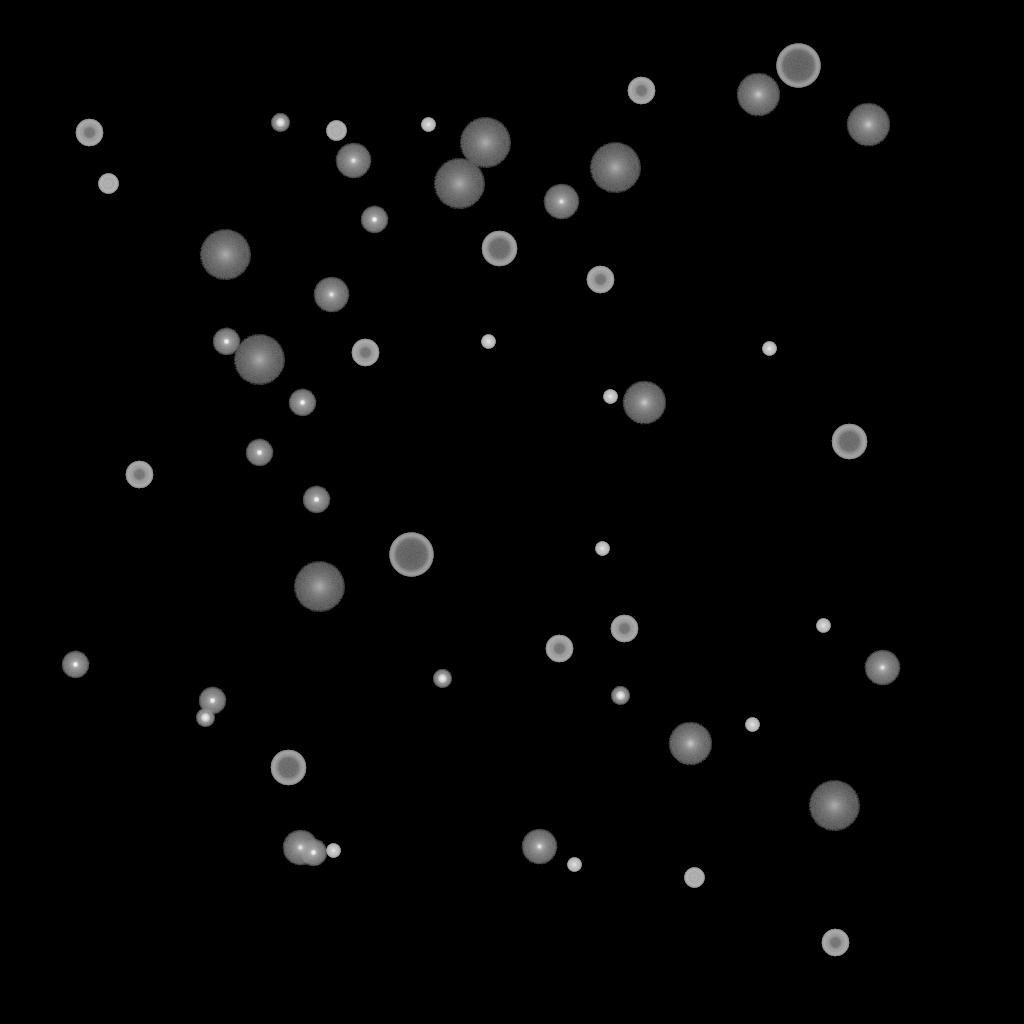depth:-10: (288, 389, 316, 417), (360, 206, 388, 234), (245, 439, 273, 467), (212, 328, 240, 356), (299, 839, 327, 867), (61, 651, 89, 679), (198, 687, 226, 715), (302, 486, 330, 514)
depth:-20: (196, 709, 214, 727), (611, 687, 629, 705), (271, 114, 289, 132), (433, 670, 451, 688)
depth:-30: (421, 118, 435, 132), (745, 718, 759, 732), (762, 342, 776, 356), (326, 844, 340, 858), (567, 858, 581, 872), (816, 619, 830, 633), (481, 335, 495, 349), (595, 542, 609, 556), (603, 390, 617, 404)
depth:-40: (684, 868, 704, 888), (326, 121, 346, 141), (98, 174, 118, 194)
depth:-50: (627, 77, 655, 105), (545, 635, 573, 663), (821, 929, 849, 957), (586, 266, 614, 294), (125, 461, 153, 489), (75, 119, 103, 147), (610, 615, 638, 643), (351, 339, 379, 367)
depth:-60: (270, 750, 306, 786), (831, 424, 867, 460), (481, 231, 517, 267)
depth:-70: (389, 533, 433, 577), (776, 44, 820, 88)
depth:0: (282, 830, 318, 866), (543, 184, 579, 220), (521, 829, 557, 865), (335, 143, 371, 179), (313, 277, 349, 313), (864, 650, 900, 686)
depth:10: (622, 381, 666, 425), (668, 722, 712, 766), (846, 103, 890, 147), (736, 73, 780, 117)
depth:20: (433, 159, 485, 209), (808, 781, 860, 831), (589, 143, 641, 193), (199, 230, 251, 280), (233, 335, 285, 385), (459, 118, 511, 168), (293, 562, 345, 612)
